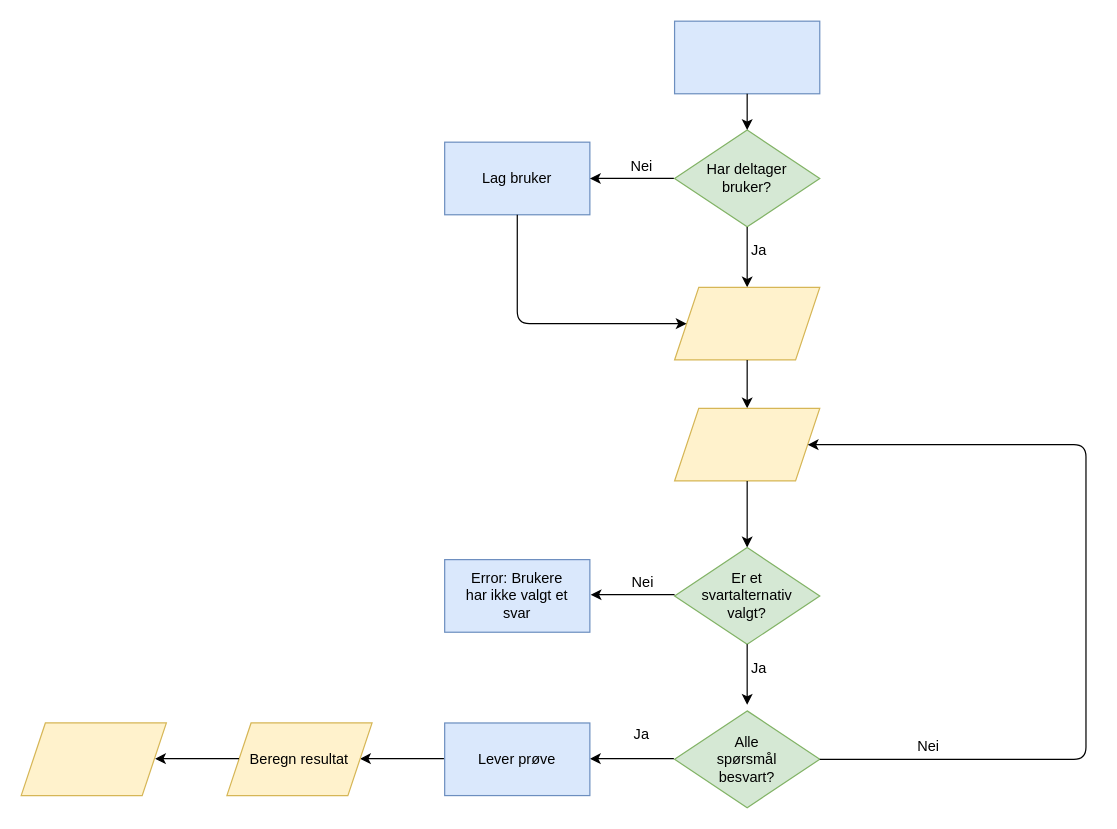
The diagram is 1117 pixels wide and 829 high, and some of its shapes have lost their labels. Here are the shapes that lost their labels. From the top down, the centre of each, then its label:
At point (746, 57): "Trykk på eksamenslenke".
At point (746, 323): "Start eksamen".
At point (746, 444): "Vis neste spørsmål".
At point (93, 759): "Vis resultat".
